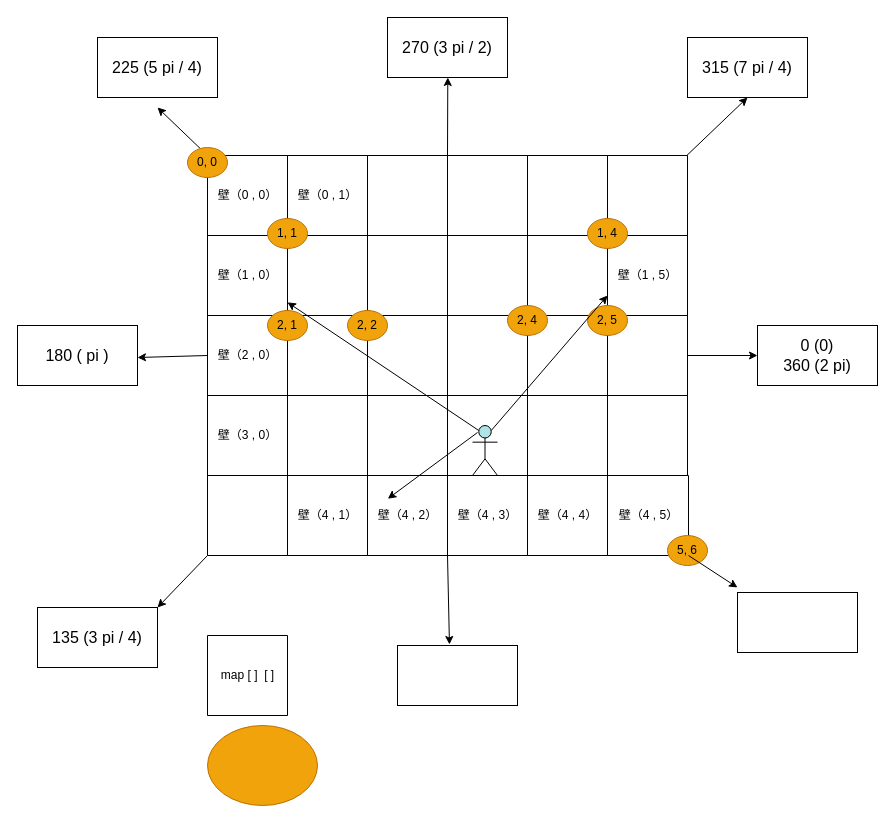
The diagram is 895 pixels wide and 823 high, and some of its shapes have lost their labels. The shapes that lost their labels are listed below. From the top down, each one's centre as x and y in pixels, then its label:
At [485,450]: "人 （3.5, 4.5）".
At [247,515]: "壁（4 , 0）".
At [797,622]: "45 (pi / 4)".
At [457,675]: "90 (pi / 2)".
At [262,765]: "player_pos".
